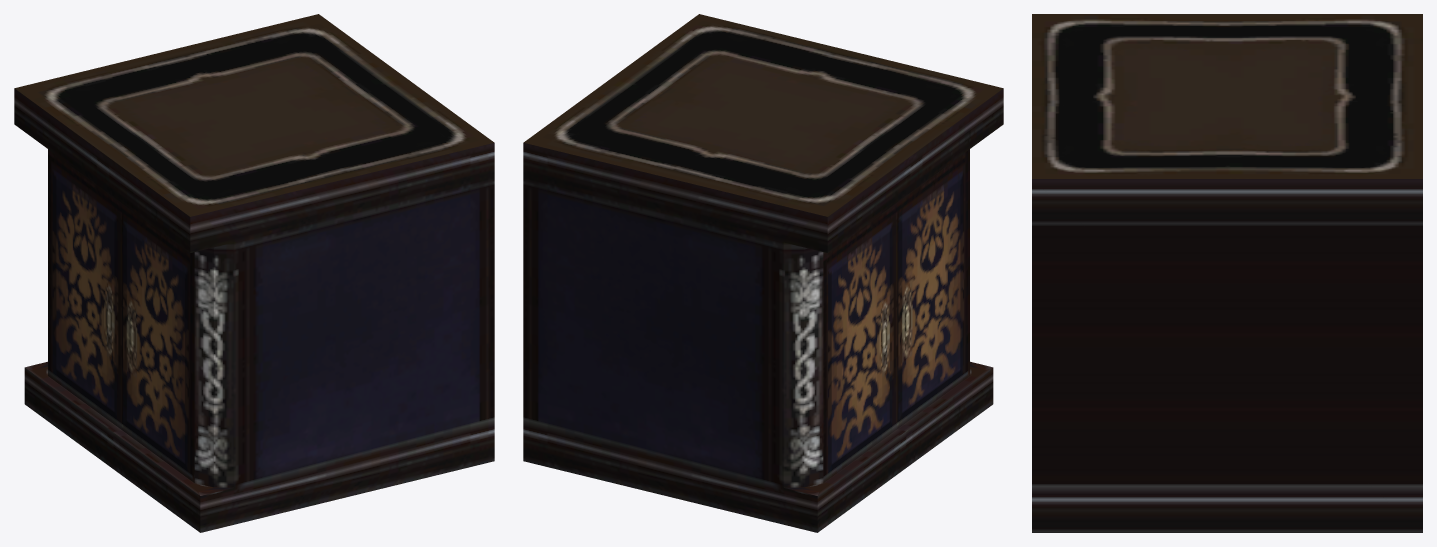
Rendered from furni_0201226.FBX.
3 renders of one model, left to right at view 1: azimuth 30°, elevation 25°; view 2: azimuth 150°, elevation 25°; view 3: azimuth 270°, elevation 25°, orthographic. The views are drawn at different scales.
Parts seen in each view (by area): view 1: furni_0201226; view 2: furni_0201226; view 3: furni_0201226.
Boxes of the visible parts, x1,y1,x2,y2 form: furni_0201226: (14, 14, 494, 532); furni_0201226: (523, 14, 1003, 532); furni_0201226: (1032, 14, 1422, 532).
Size of the model in its own units: 80 by 80 by 80.04.
1 material, 1 textured.
